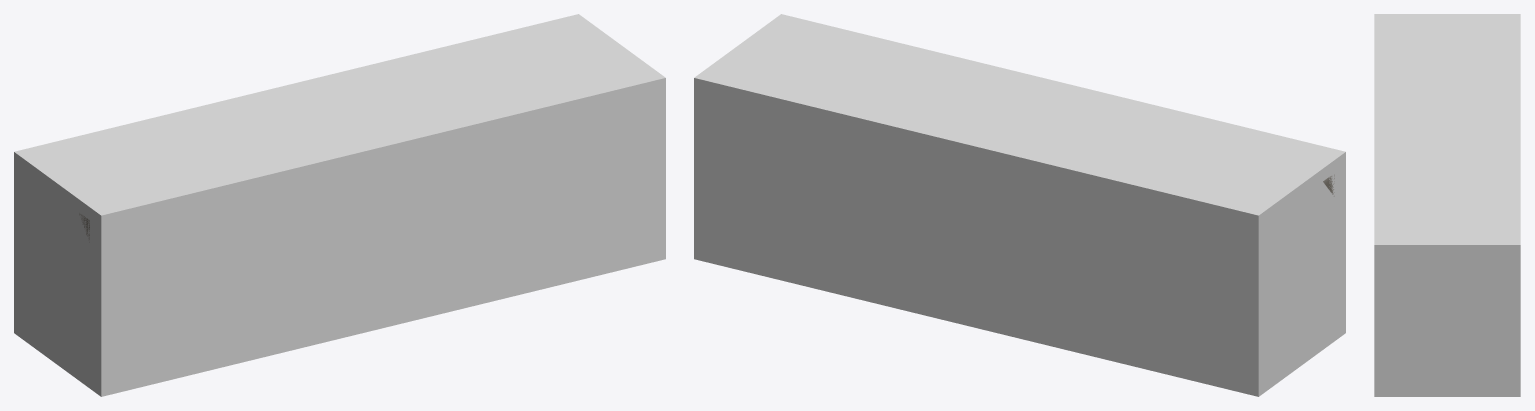
File: house_footing.glb
3 views of the same model, side by side, from view 1: azimuth 30°, elevation 25°; view 2: azimuth 150°, elevation 25°; view 3: azimuth 270°, elevation 25° (orthographic). The views are drawn at different scales.
Parts seen in each view (by area): view 1: COL_house_footing_static_00; view 2: COL_house_footing_static_00; view 3: COL_house_footing_static_00.
Boxes of the visible parts, x1,y1,x2,y2 form: COL_house_footing_static_00: (14,14,665,396); COL_house_footing_static_00: (694,14,1345,396); COL_house_footing_static_00: (1374,14,1520,396).
Size of the model in its own units: 1.61 by 0.4929 by 0.4297.
1 material, 1 textured.
